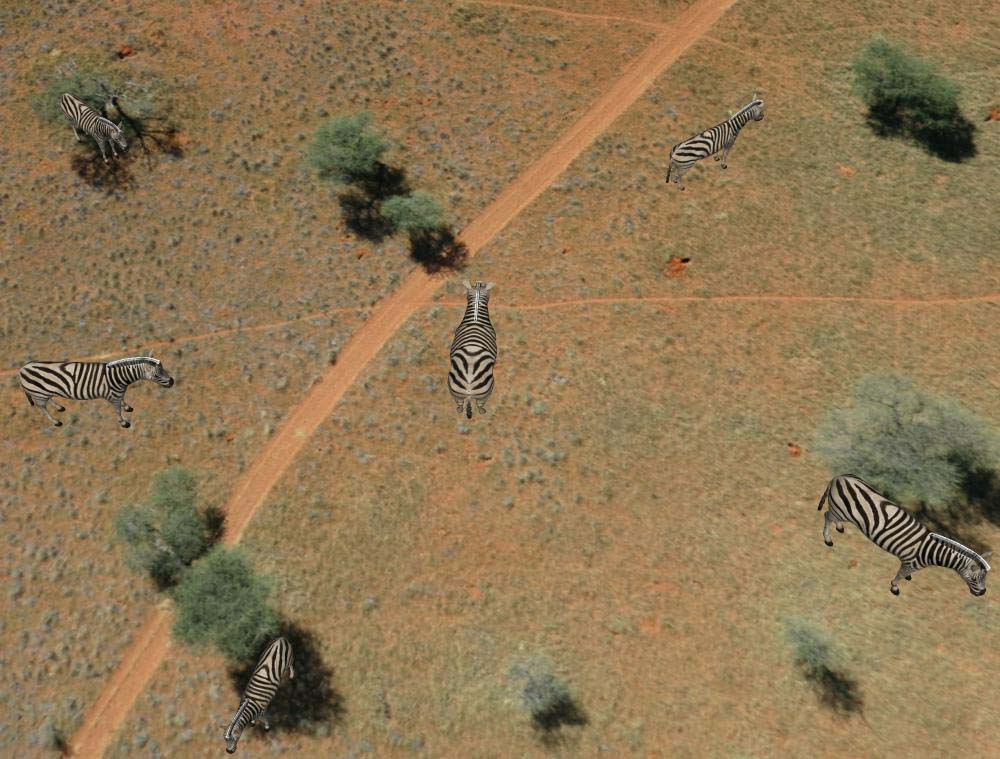zebra: (815, 464, 1000, 607), (13, 346, 175, 429), (221, 626, 296, 759), (666, 97, 766, 189), (447, 272, 501, 423), (56, 83, 128, 167)
